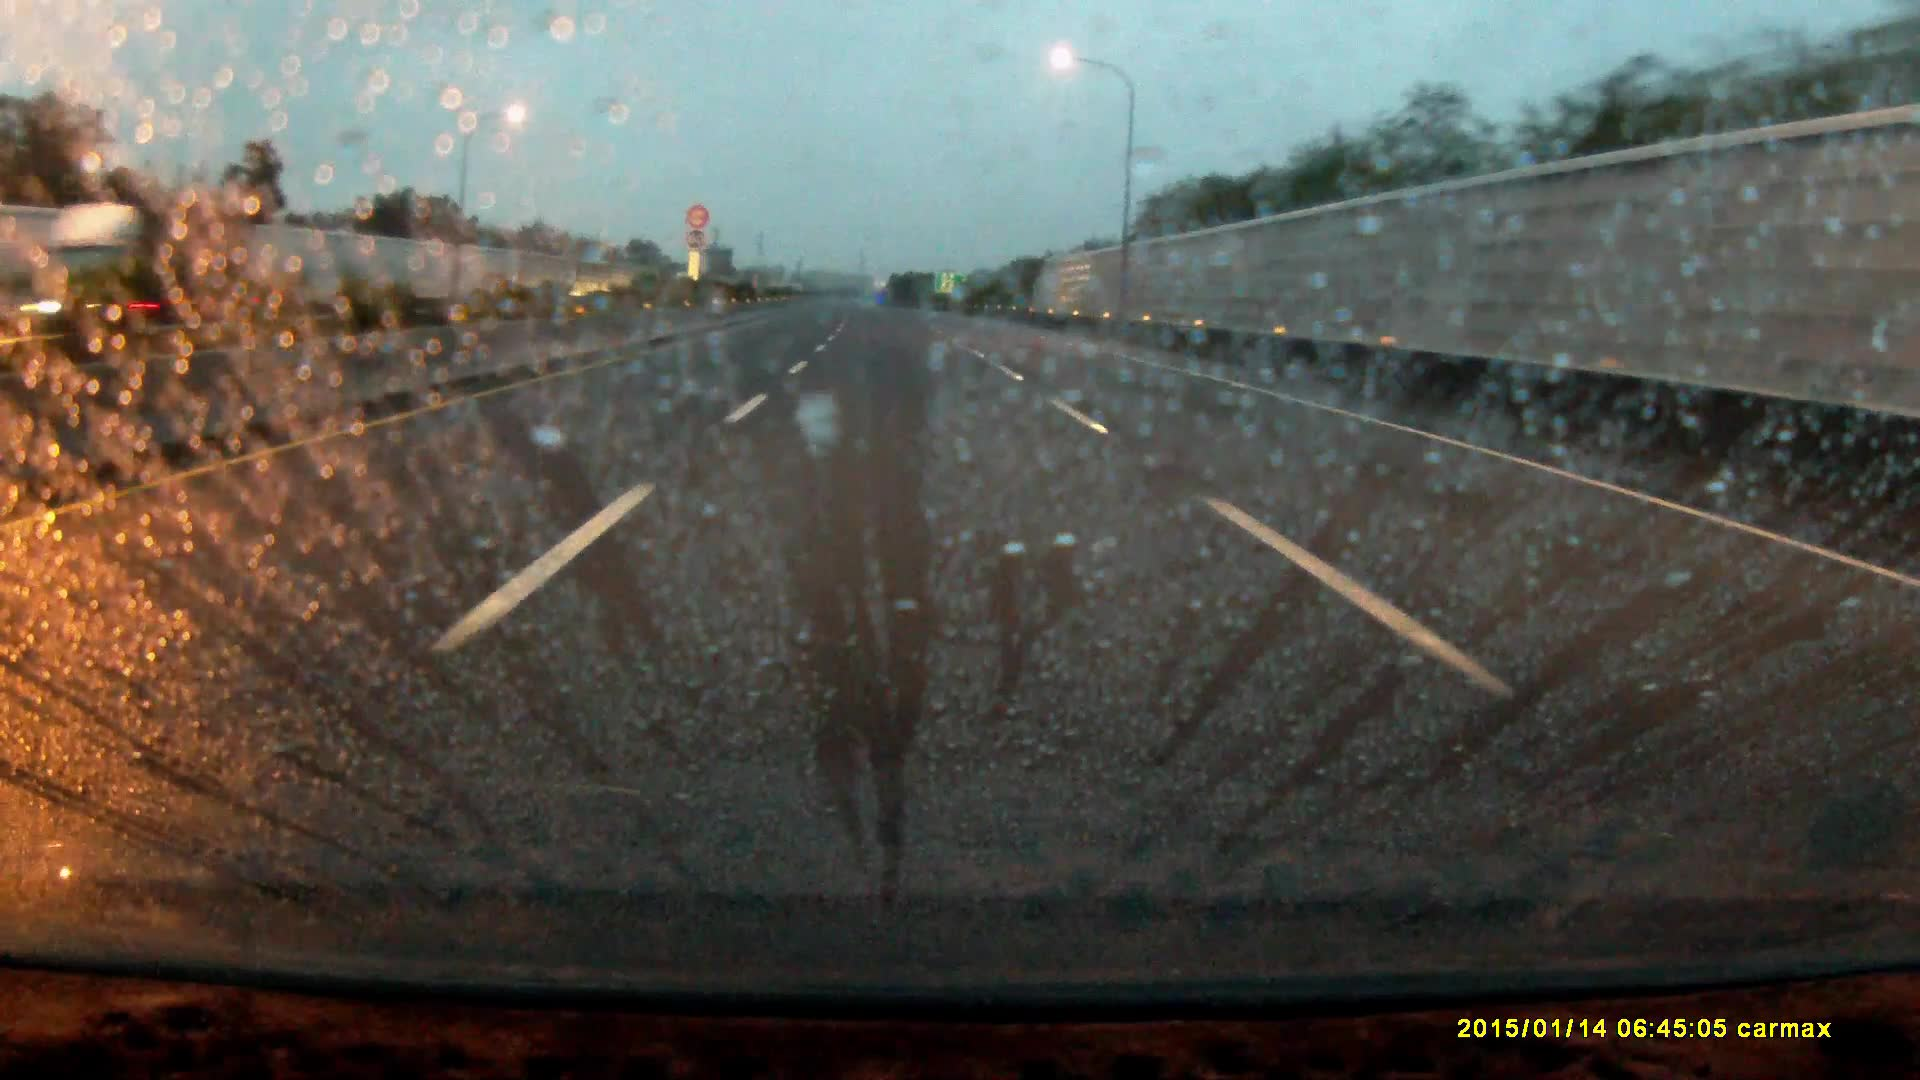vehicle: (29, 200, 224, 336)
